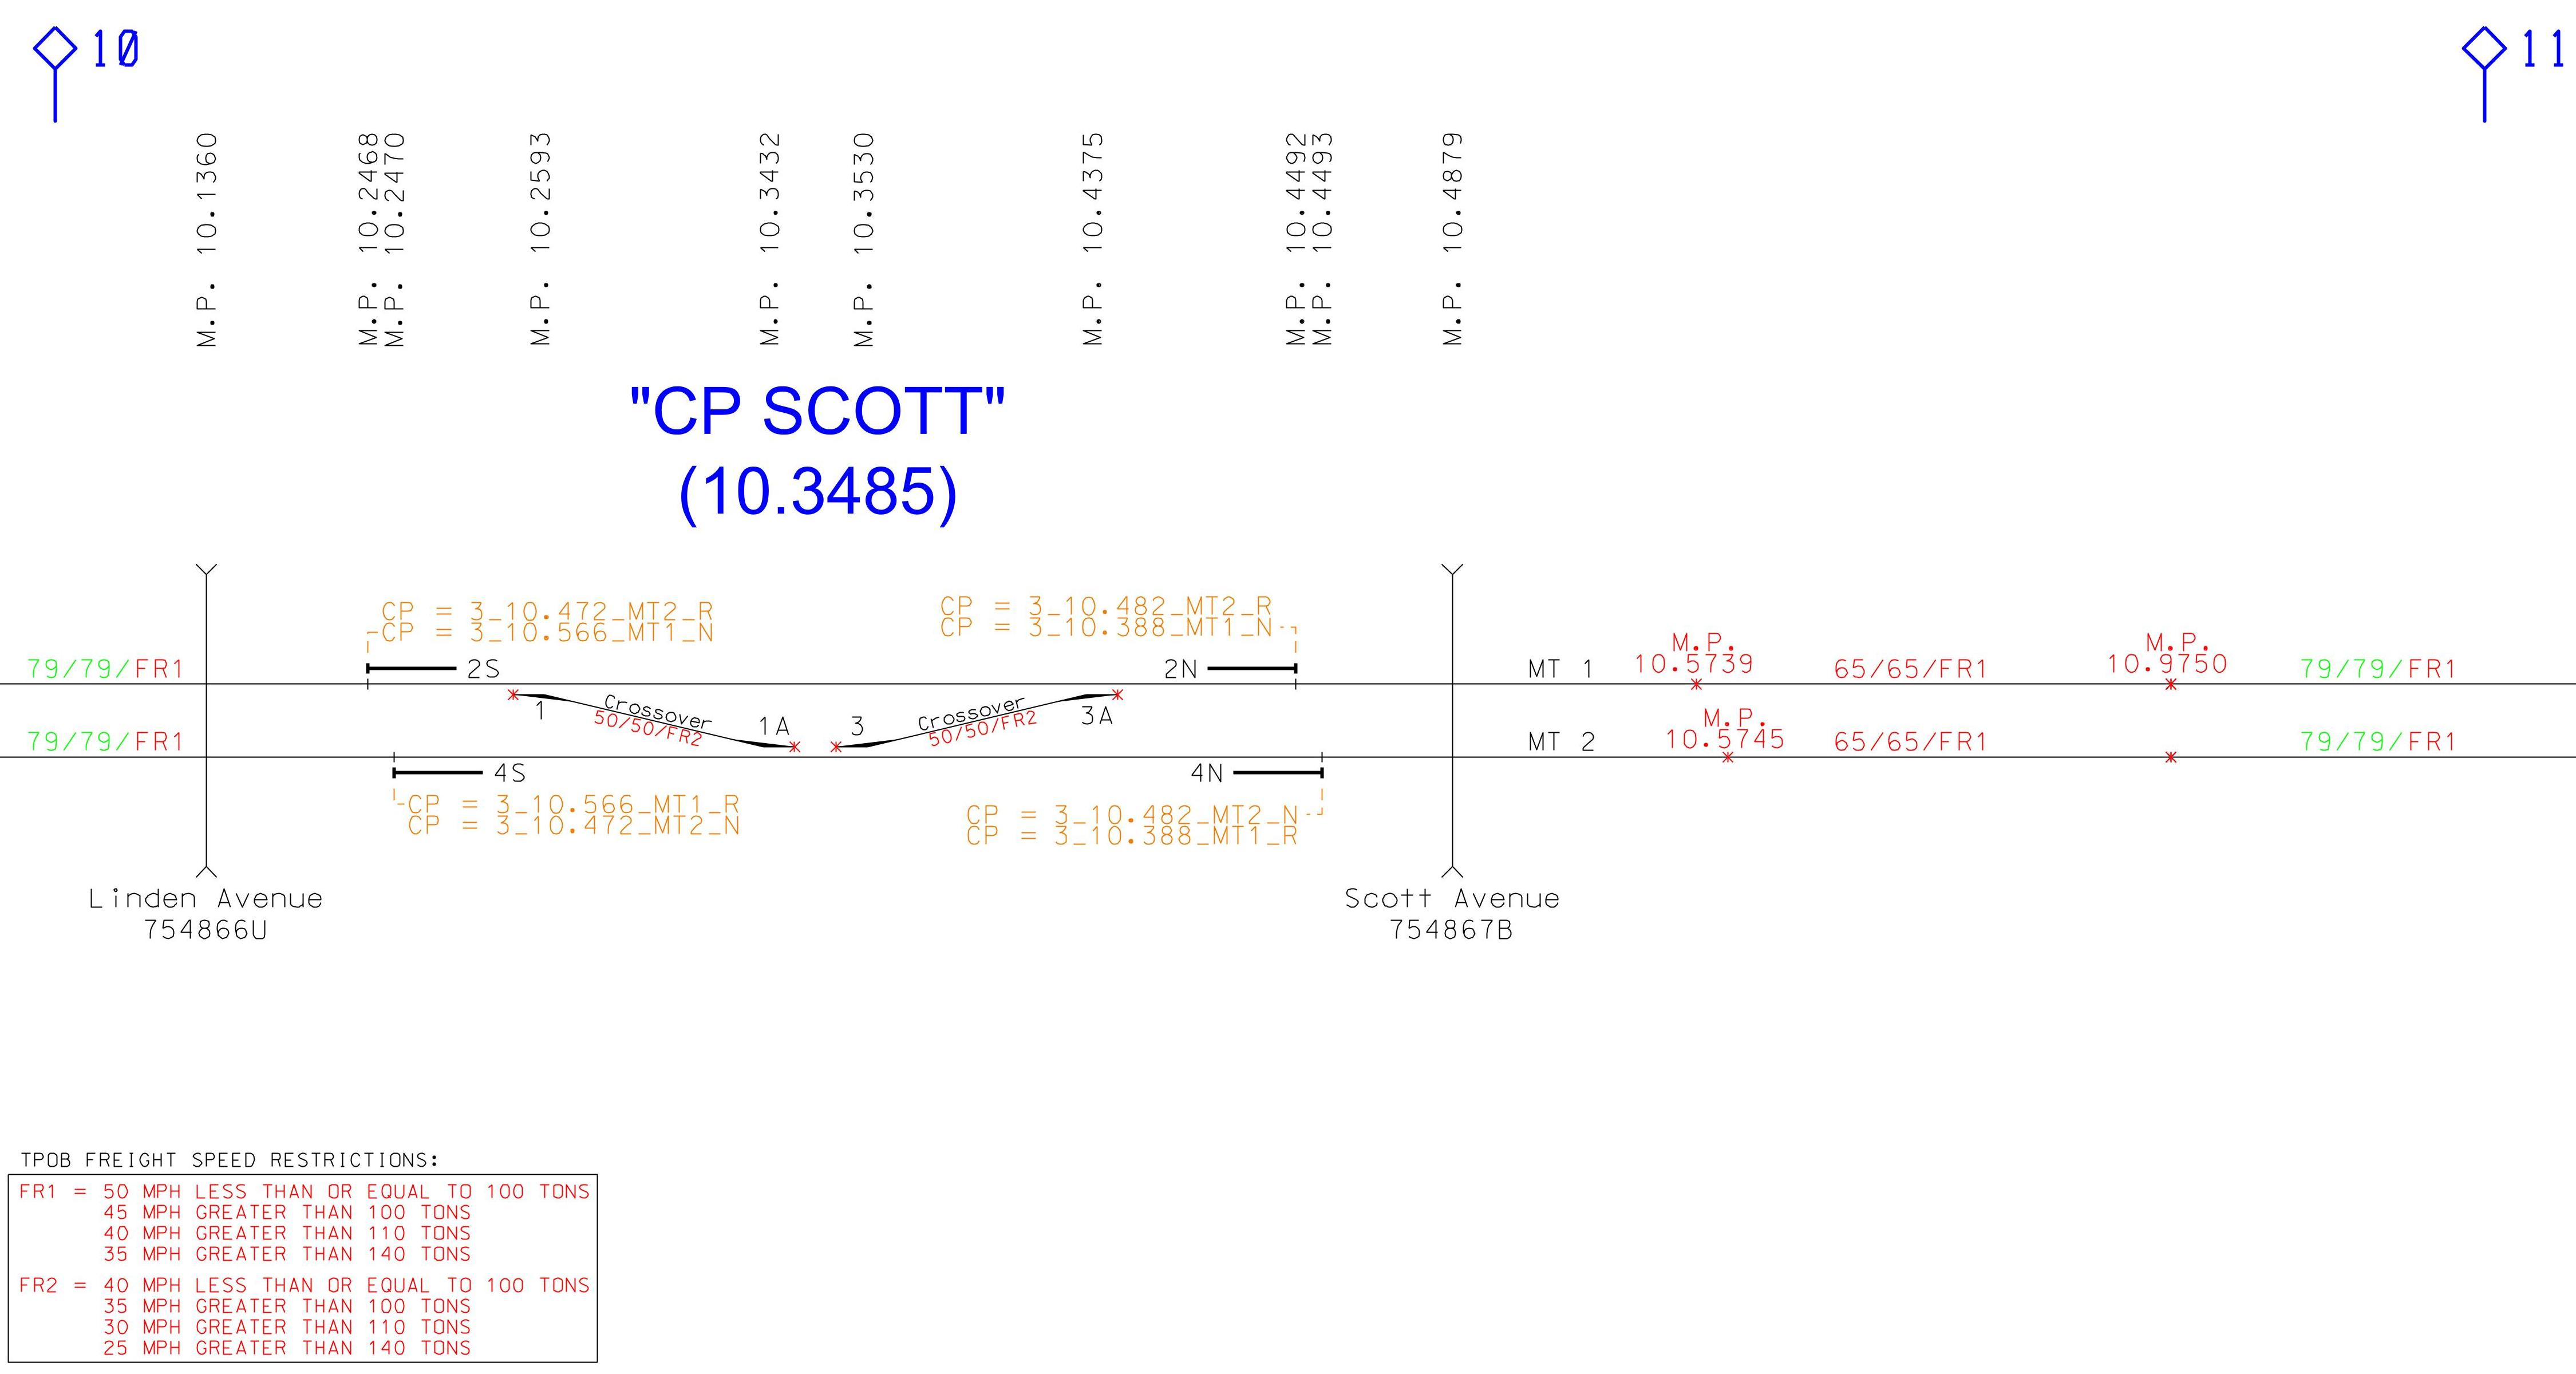leftSignal: (1155, 648, 1308, 699), (1184, 747, 1337, 796)
milepost: (750, 123, 792, 361), (1070, 123, 1113, 361), (1429, 119, 1472, 358), (186, 124, 227, 365), (842, 121, 883, 361), (520, 121, 561, 360)
rightSignal: (380, 747, 535, 796), (361, 644, 503, 697)
switch: (750, 711, 808, 765), (826, 711, 884, 765), (508, 677, 567, 730), (1073, 677, 1133, 730)
